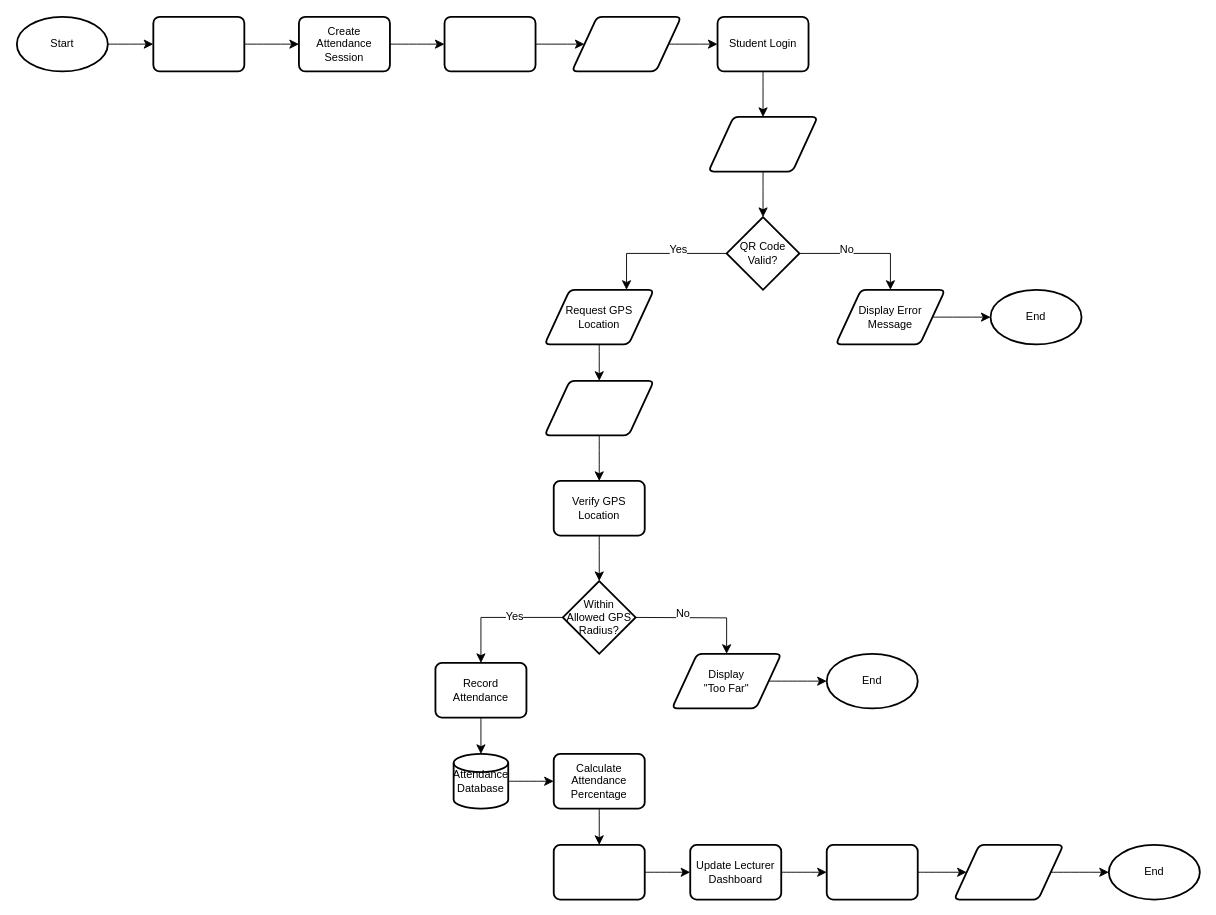
The diagram is 1216 pixels wide and 915 high, and some of its shapes have lost their labels. The shapes that lost their labels are listed below. From the top down, each one's box as (x1, y1, x2, y2) in pixels, then its label:
(152, 15, 245, 72): Lecturer Login
(443, 15, 536, 72): Generate Dynamic QR Code
(571, 15, 682, 72): Display QR Code
(707, 116, 818, 172): Scan QR Code
(543, 379, 654, 436): Share GPS Location
(552, 844, 645, 900): Update Attendance History
(825, 844, 918, 900): View Live Attendance List
(953, 844, 1064, 900): Display Check-in Fedback
